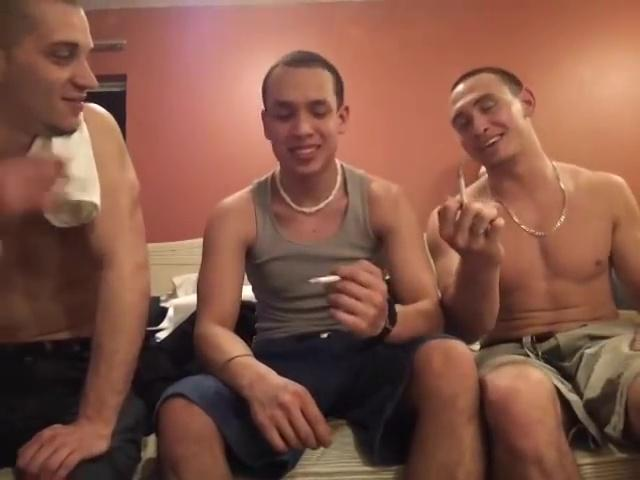cigarette: (456, 162, 469, 209), (309, 274, 345, 286)
